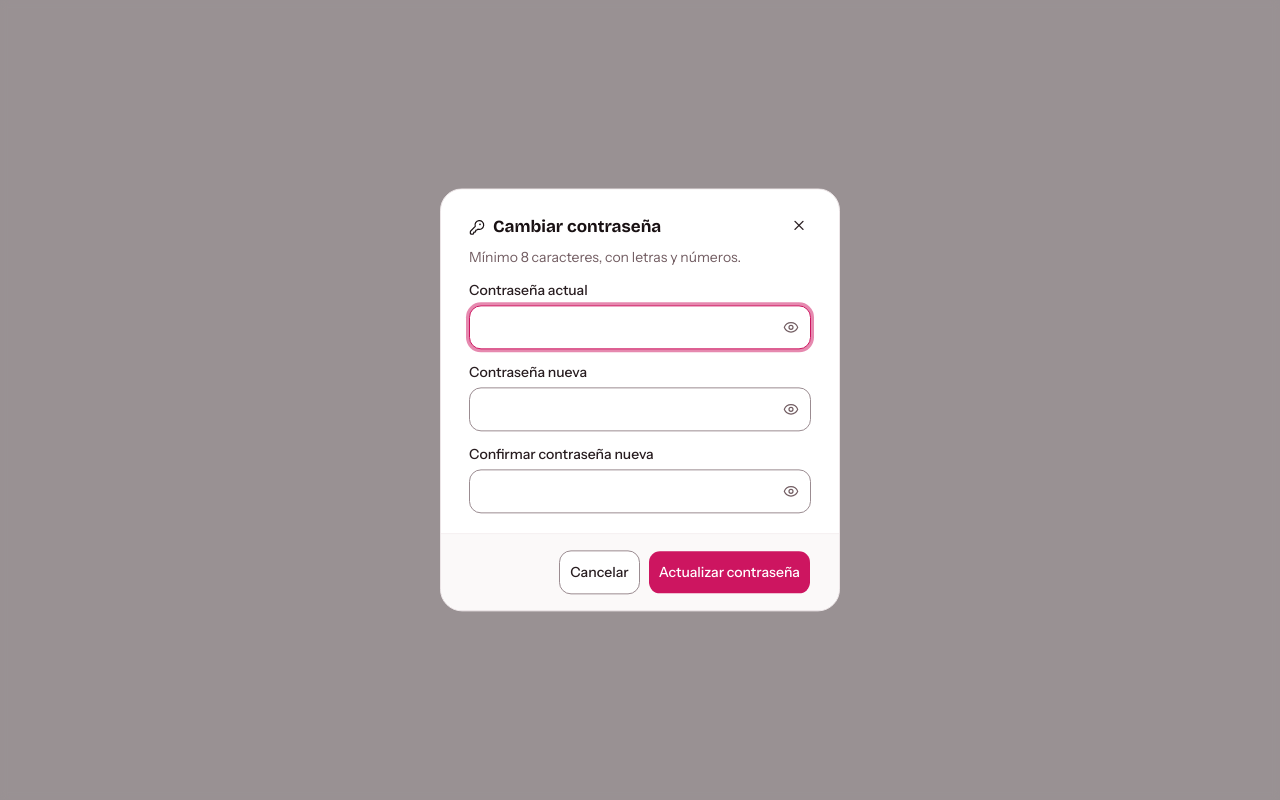
Test: ChangePasswordDialog › shows the backend error (e.g. wrong current password) and keeps the dialog open
Type "old12345" into the password field labelled "Contraseña actual" at (640, 328), box [469,306,811,350]
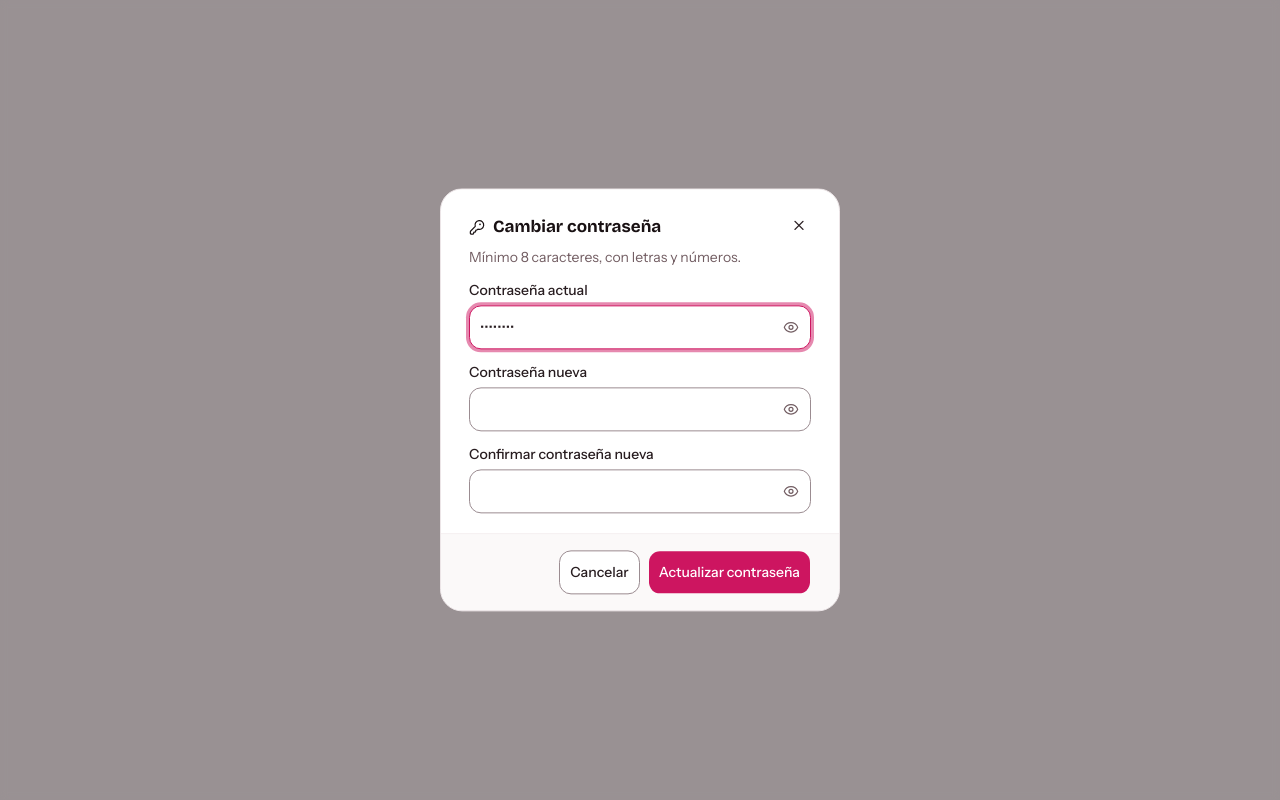
Type "new12345" into the password field labelled "Contraseña nueva" at (640, 410), box [469,388,811,432]
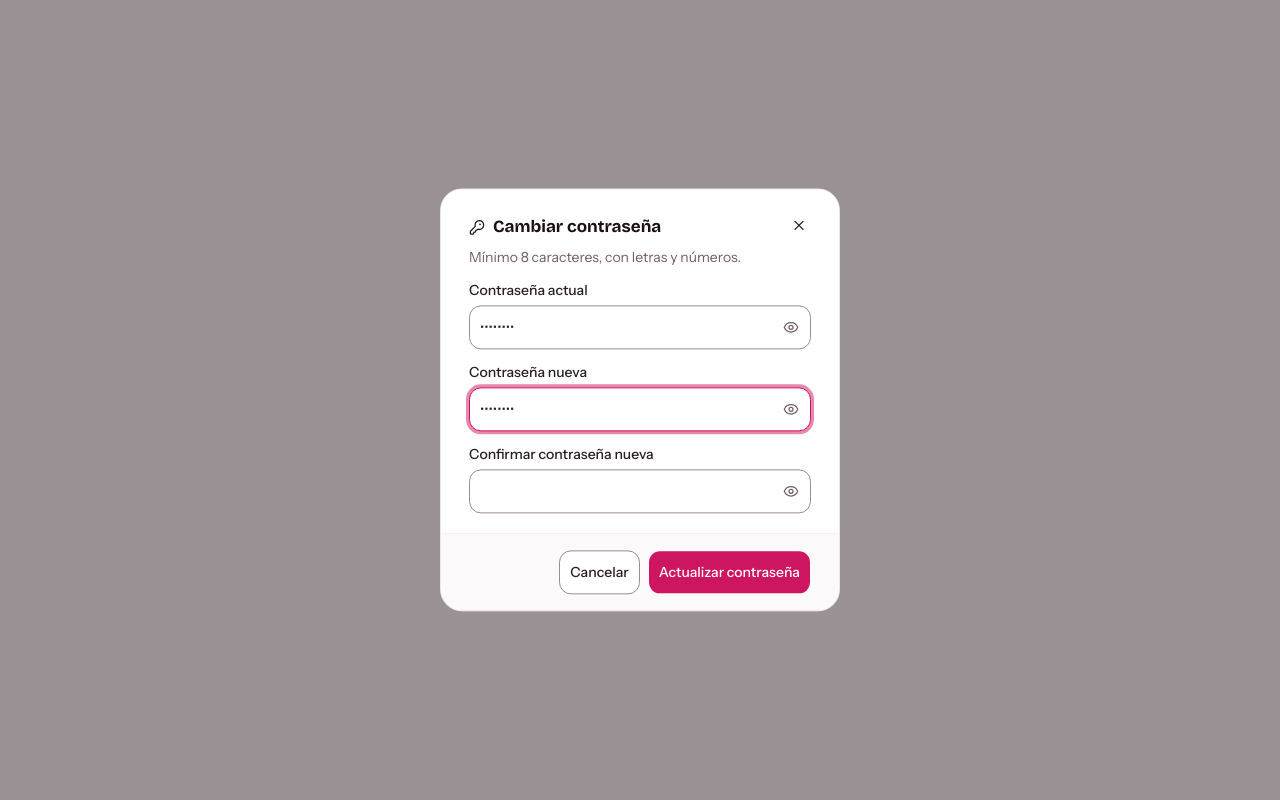
Type "new12345" into the password field labelled "Confirmar contraseña nueva" at (640, 492), box [469,470,811,514]
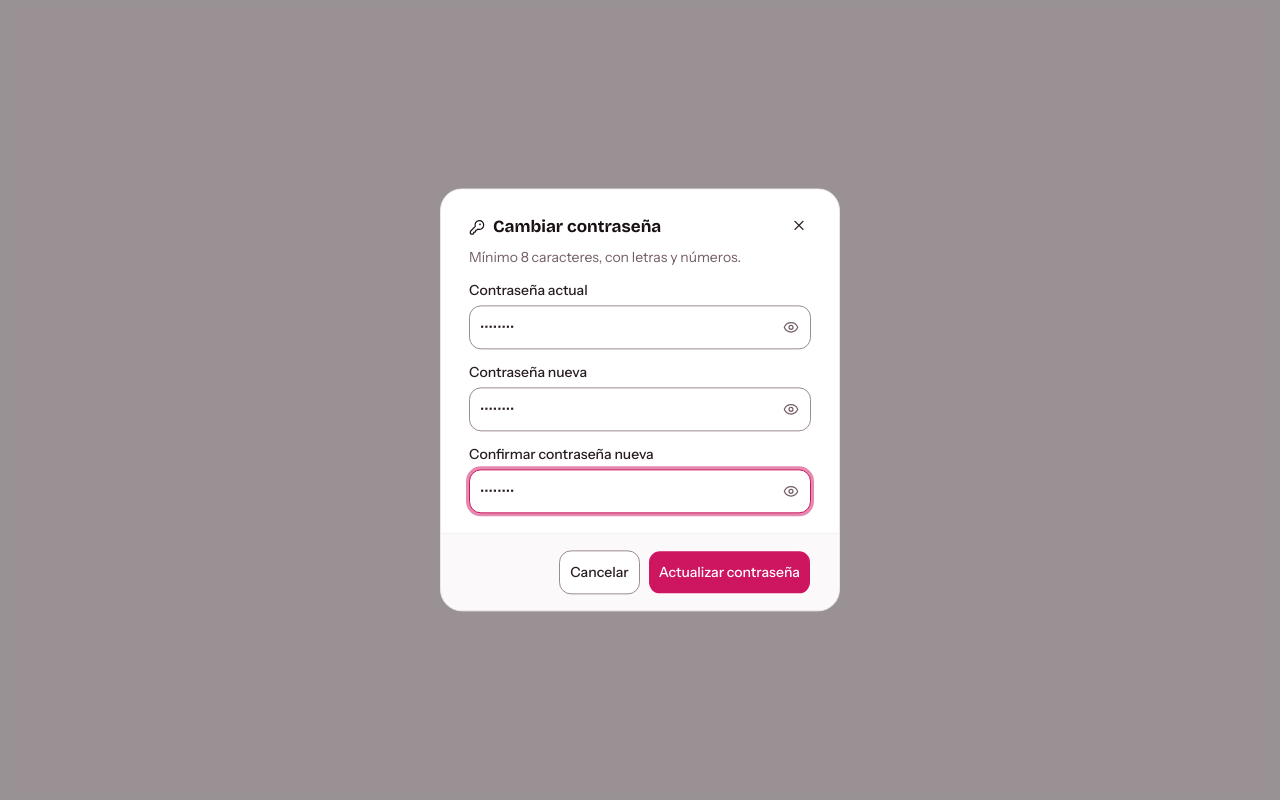
Click the button "Actualizar contraseña" at (729, 573), box [648,551,811,595]
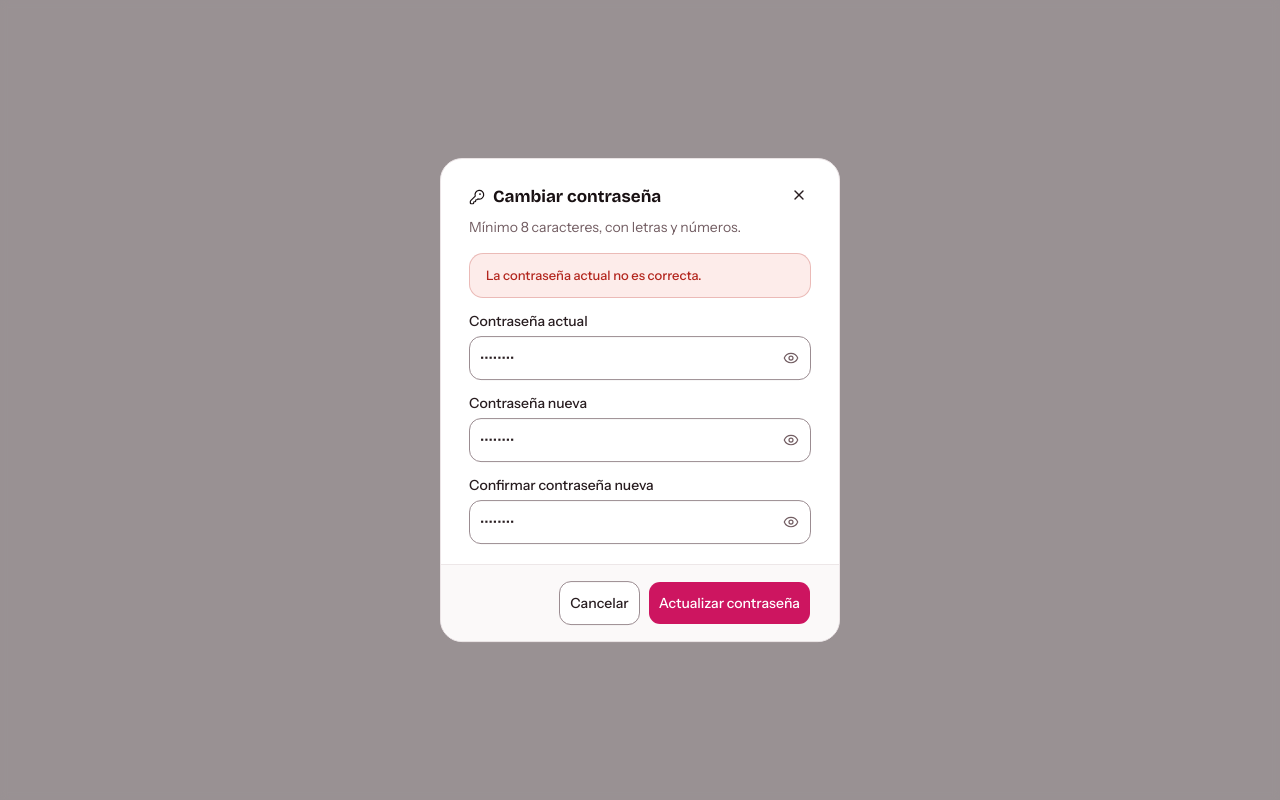
Expected: the message reads "La contraseña actual no es correcta.", [486,267,702,283]
